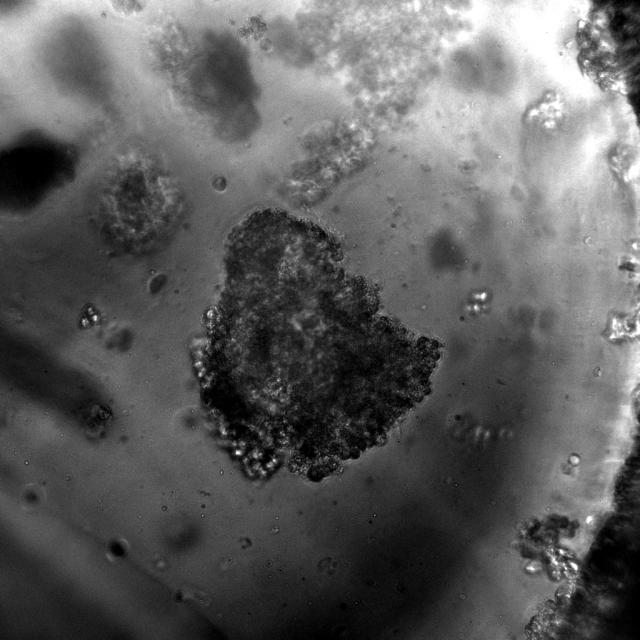organoid: (196, 209, 442, 478), (296, 0, 469, 122), (151, 19, 260, 141), (93, 151, 182, 254), (279, 114, 376, 206), (576, 0, 639, 126), (0, 130, 77, 210), (516, 514, 579, 581), (523, 91, 563, 130), (238, 16, 272, 52), (78, 303, 102, 329), (109, 0, 144, 16), (91, 405, 112, 426), (211, 175, 228, 193)
